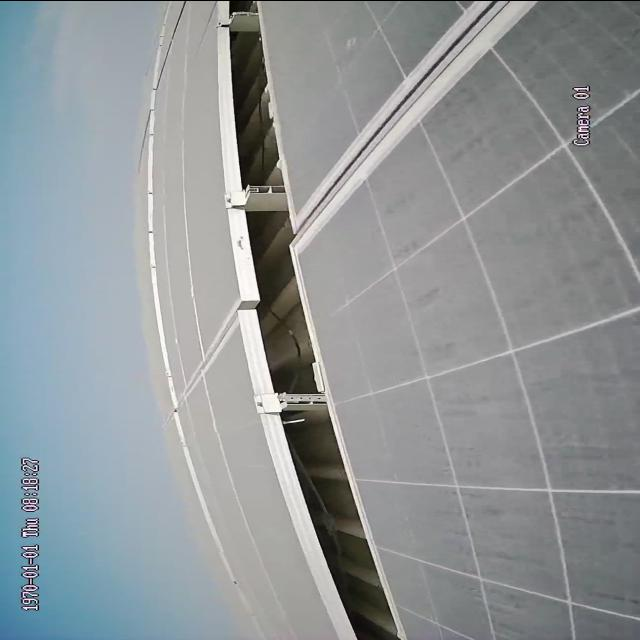interior panel: (308, 1, 535, 236), (187, 299, 237, 401)
outher panel: (213, 0, 408, 639)
